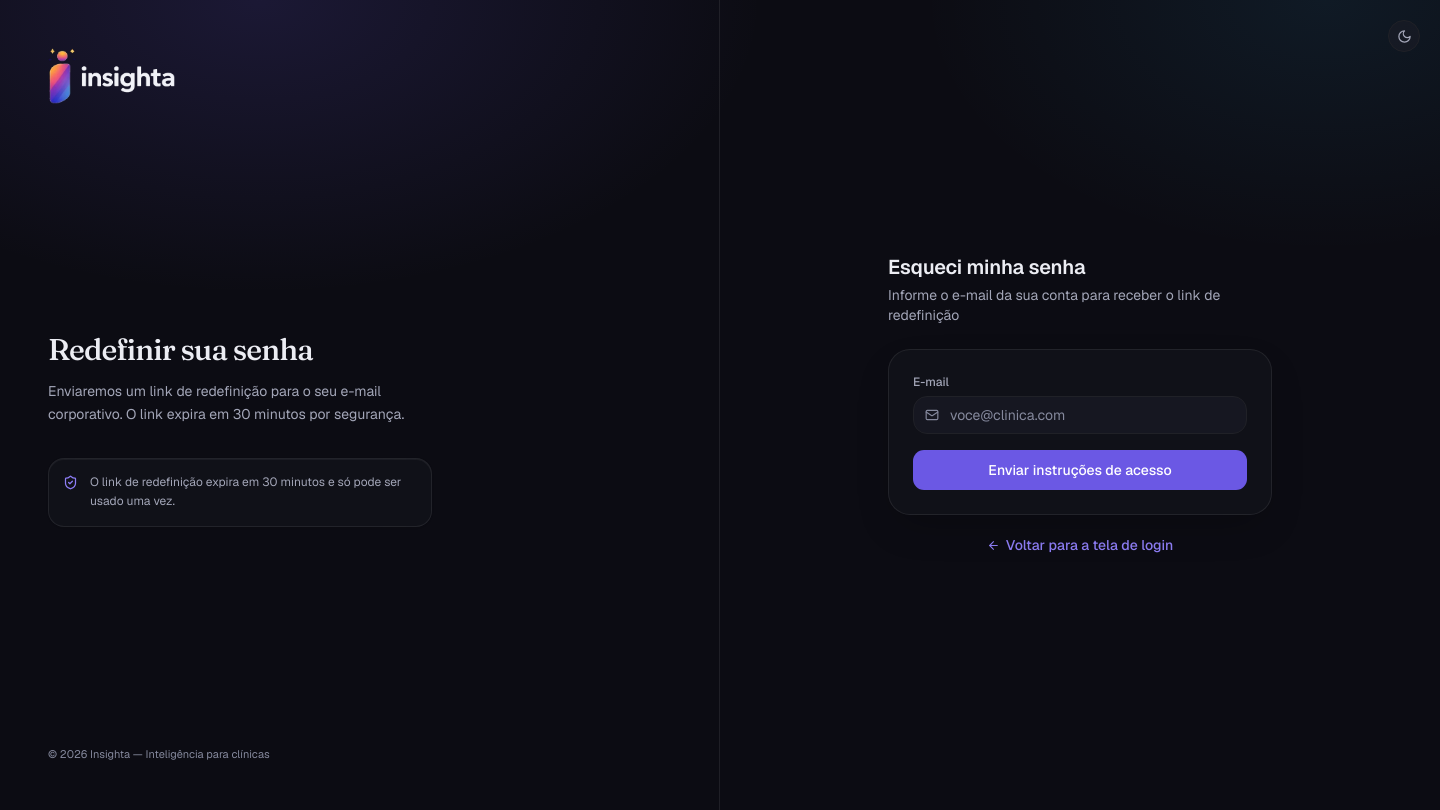
ForgotPasswordPage › envia o e-mail digitado e mostra a confirmação de envio
Type "dona@clinica.com" into the field labelled "E-mail" at (1080, 415), box [913,396,1247,434]
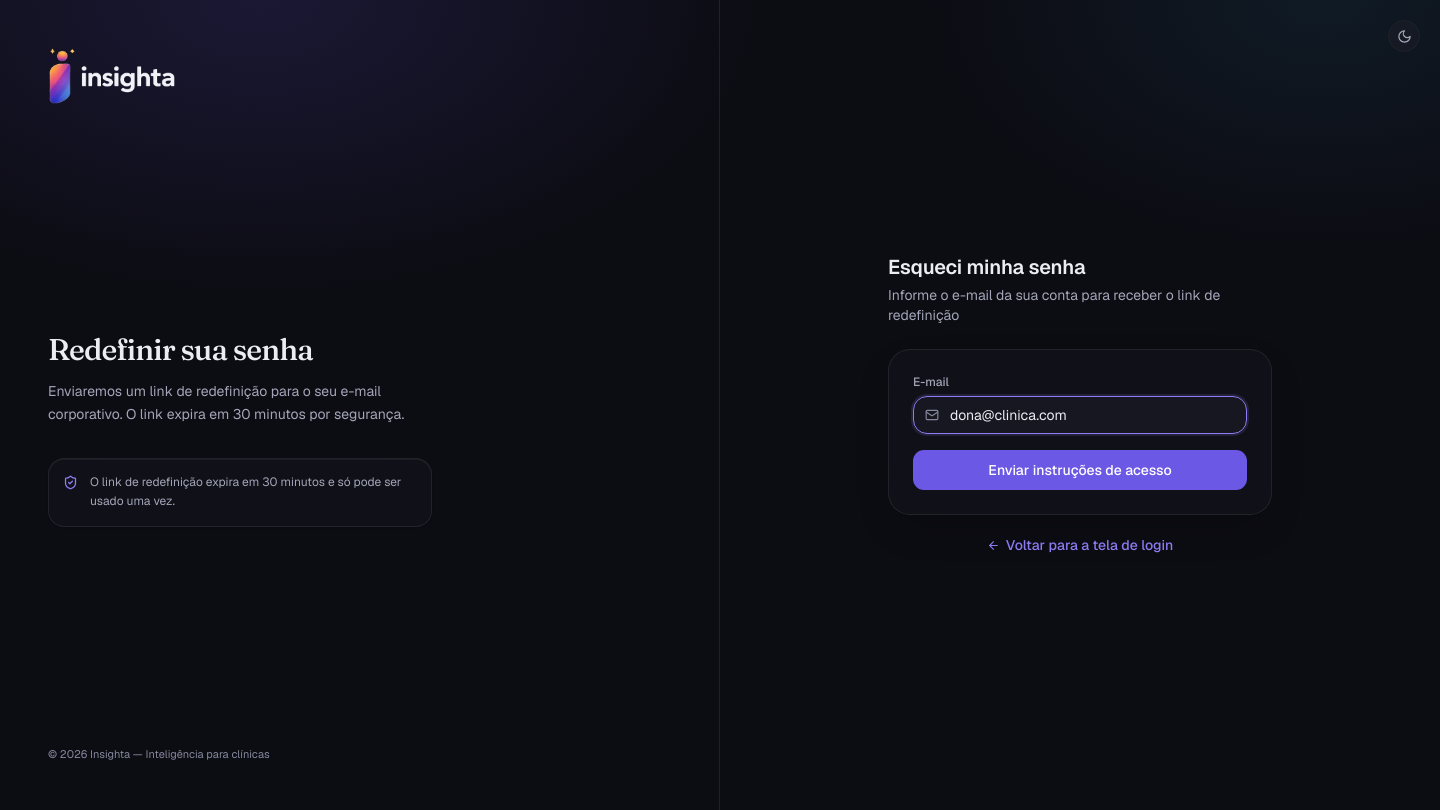
Click the button "Enviar instruções de acesso" at (1080, 470), box [913,450,1247,490]
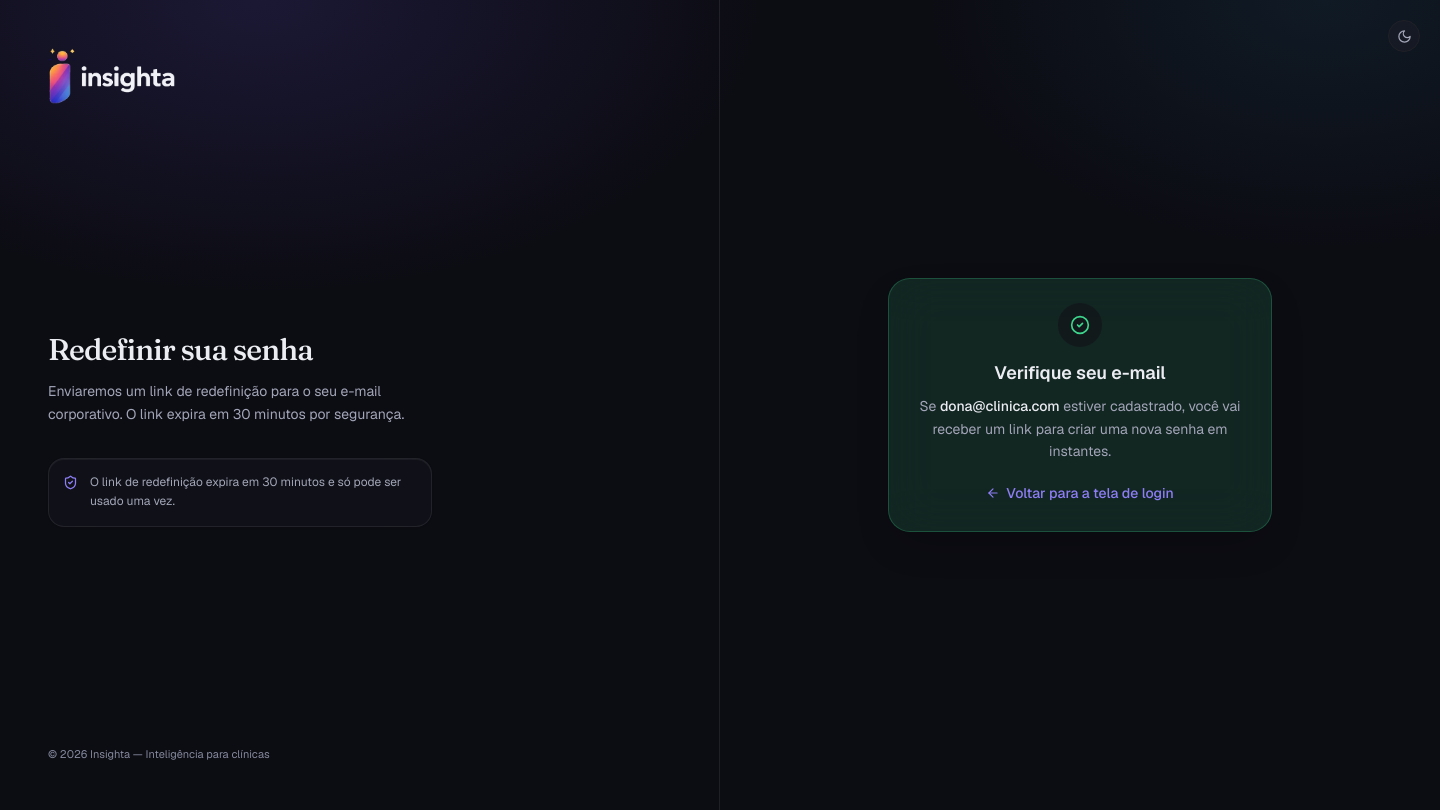
Expected: the heading "Verifique seu e-mail" is shown, [994,361,1166,384]
